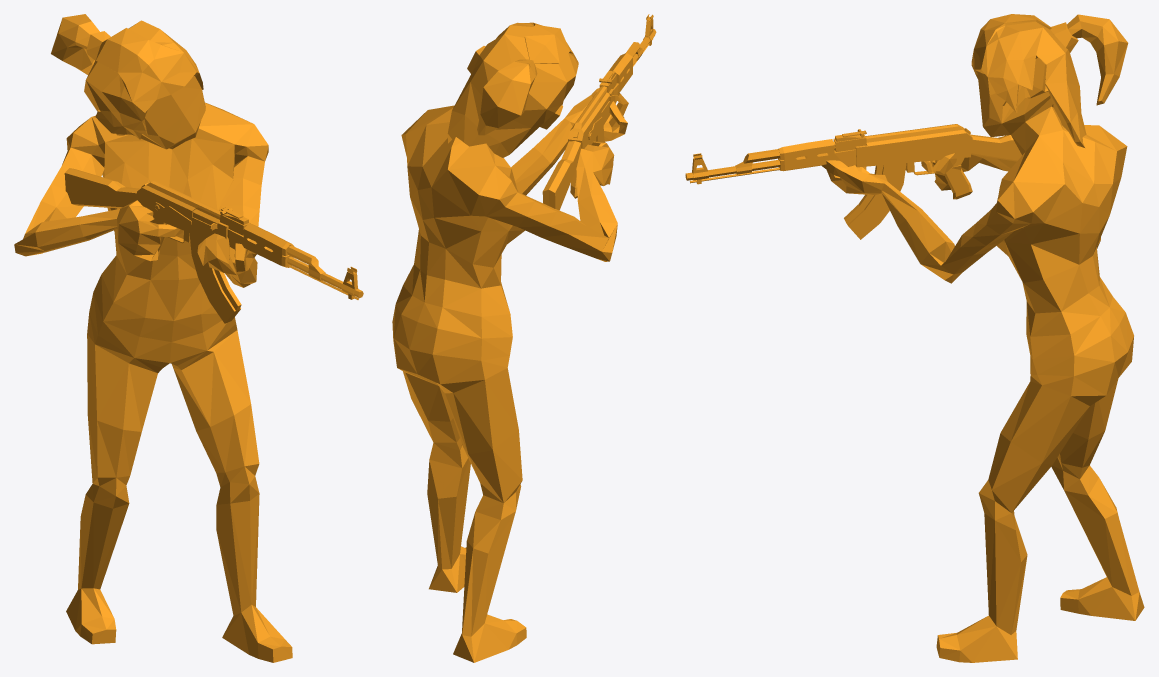
File: SM_Pawn_Weapon_Female_01.fbx
3 renders of one model, left to right at view 1: azimuth 30°, elevation 25°; view 2: azimuth 150°, elevation 25°; view 3: azimuth 270°, elevation 25°, orthographic. The views are drawn at different scales.
Visible parts, largest first — view 1: SM_Pawn_Weapon_Female_01; view 2: SM_Pawn_Weapon_Female_01; view 3: SM_Pawn_Weapon_Female_01.
Boxes of the visible parts, x1,y1,x2,y2 form: SM_Pawn_Weapon_Female_01: (14,14,363,662); SM_Pawn_Weapon_Female_01: (392,14,656,662); SM_Pawn_Weapon_Female_01: (685,14,1144,662).
Bounding box in the file's own units: 68.18 × 173 × 122.
